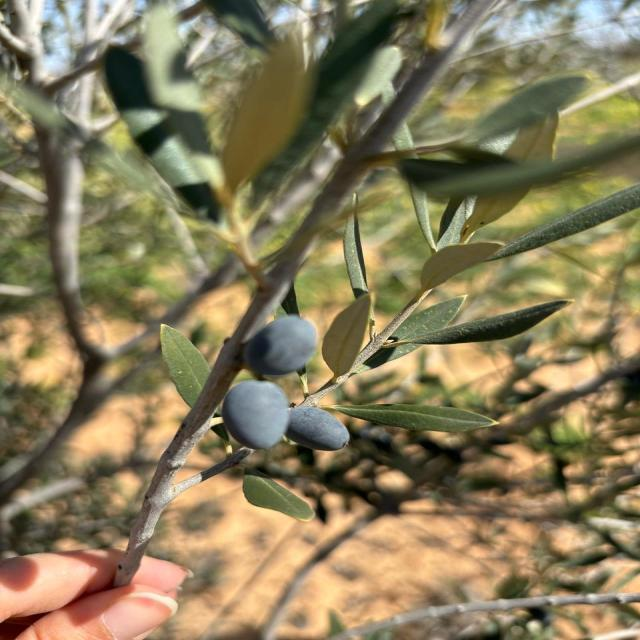Healthy: (325, 404, 497, 432), (221, 380, 289, 450), (243, 314, 317, 376), (285, 407, 349, 450)
